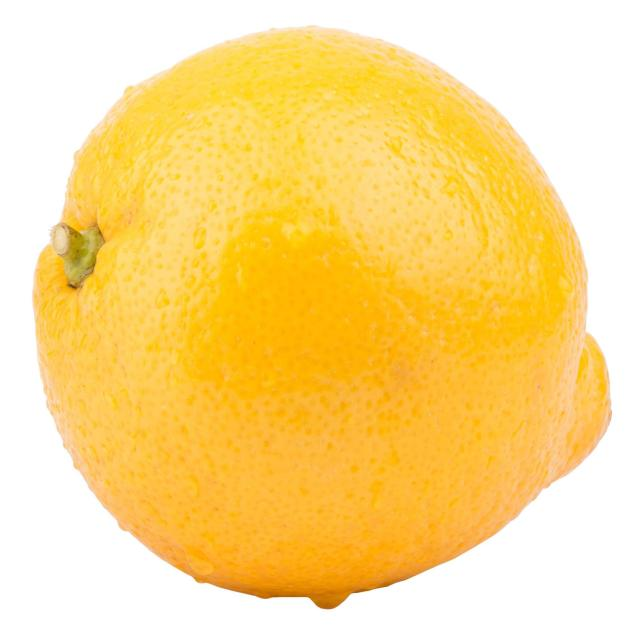lemon: (23, 20, 625, 614)
